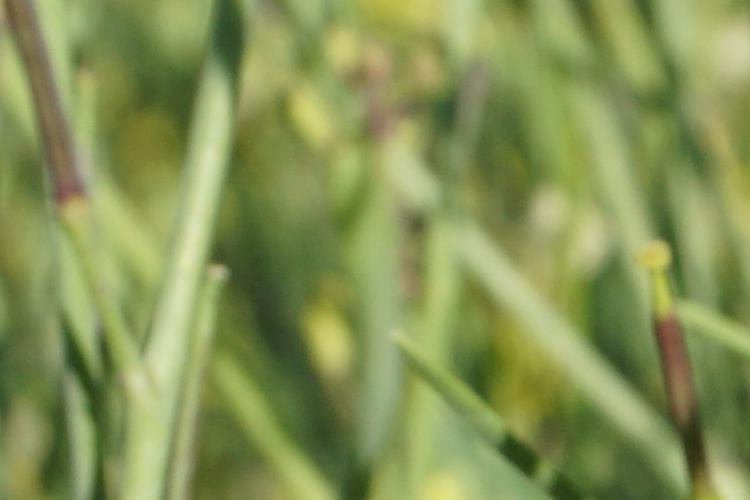pod: (620, 228, 733, 494)
